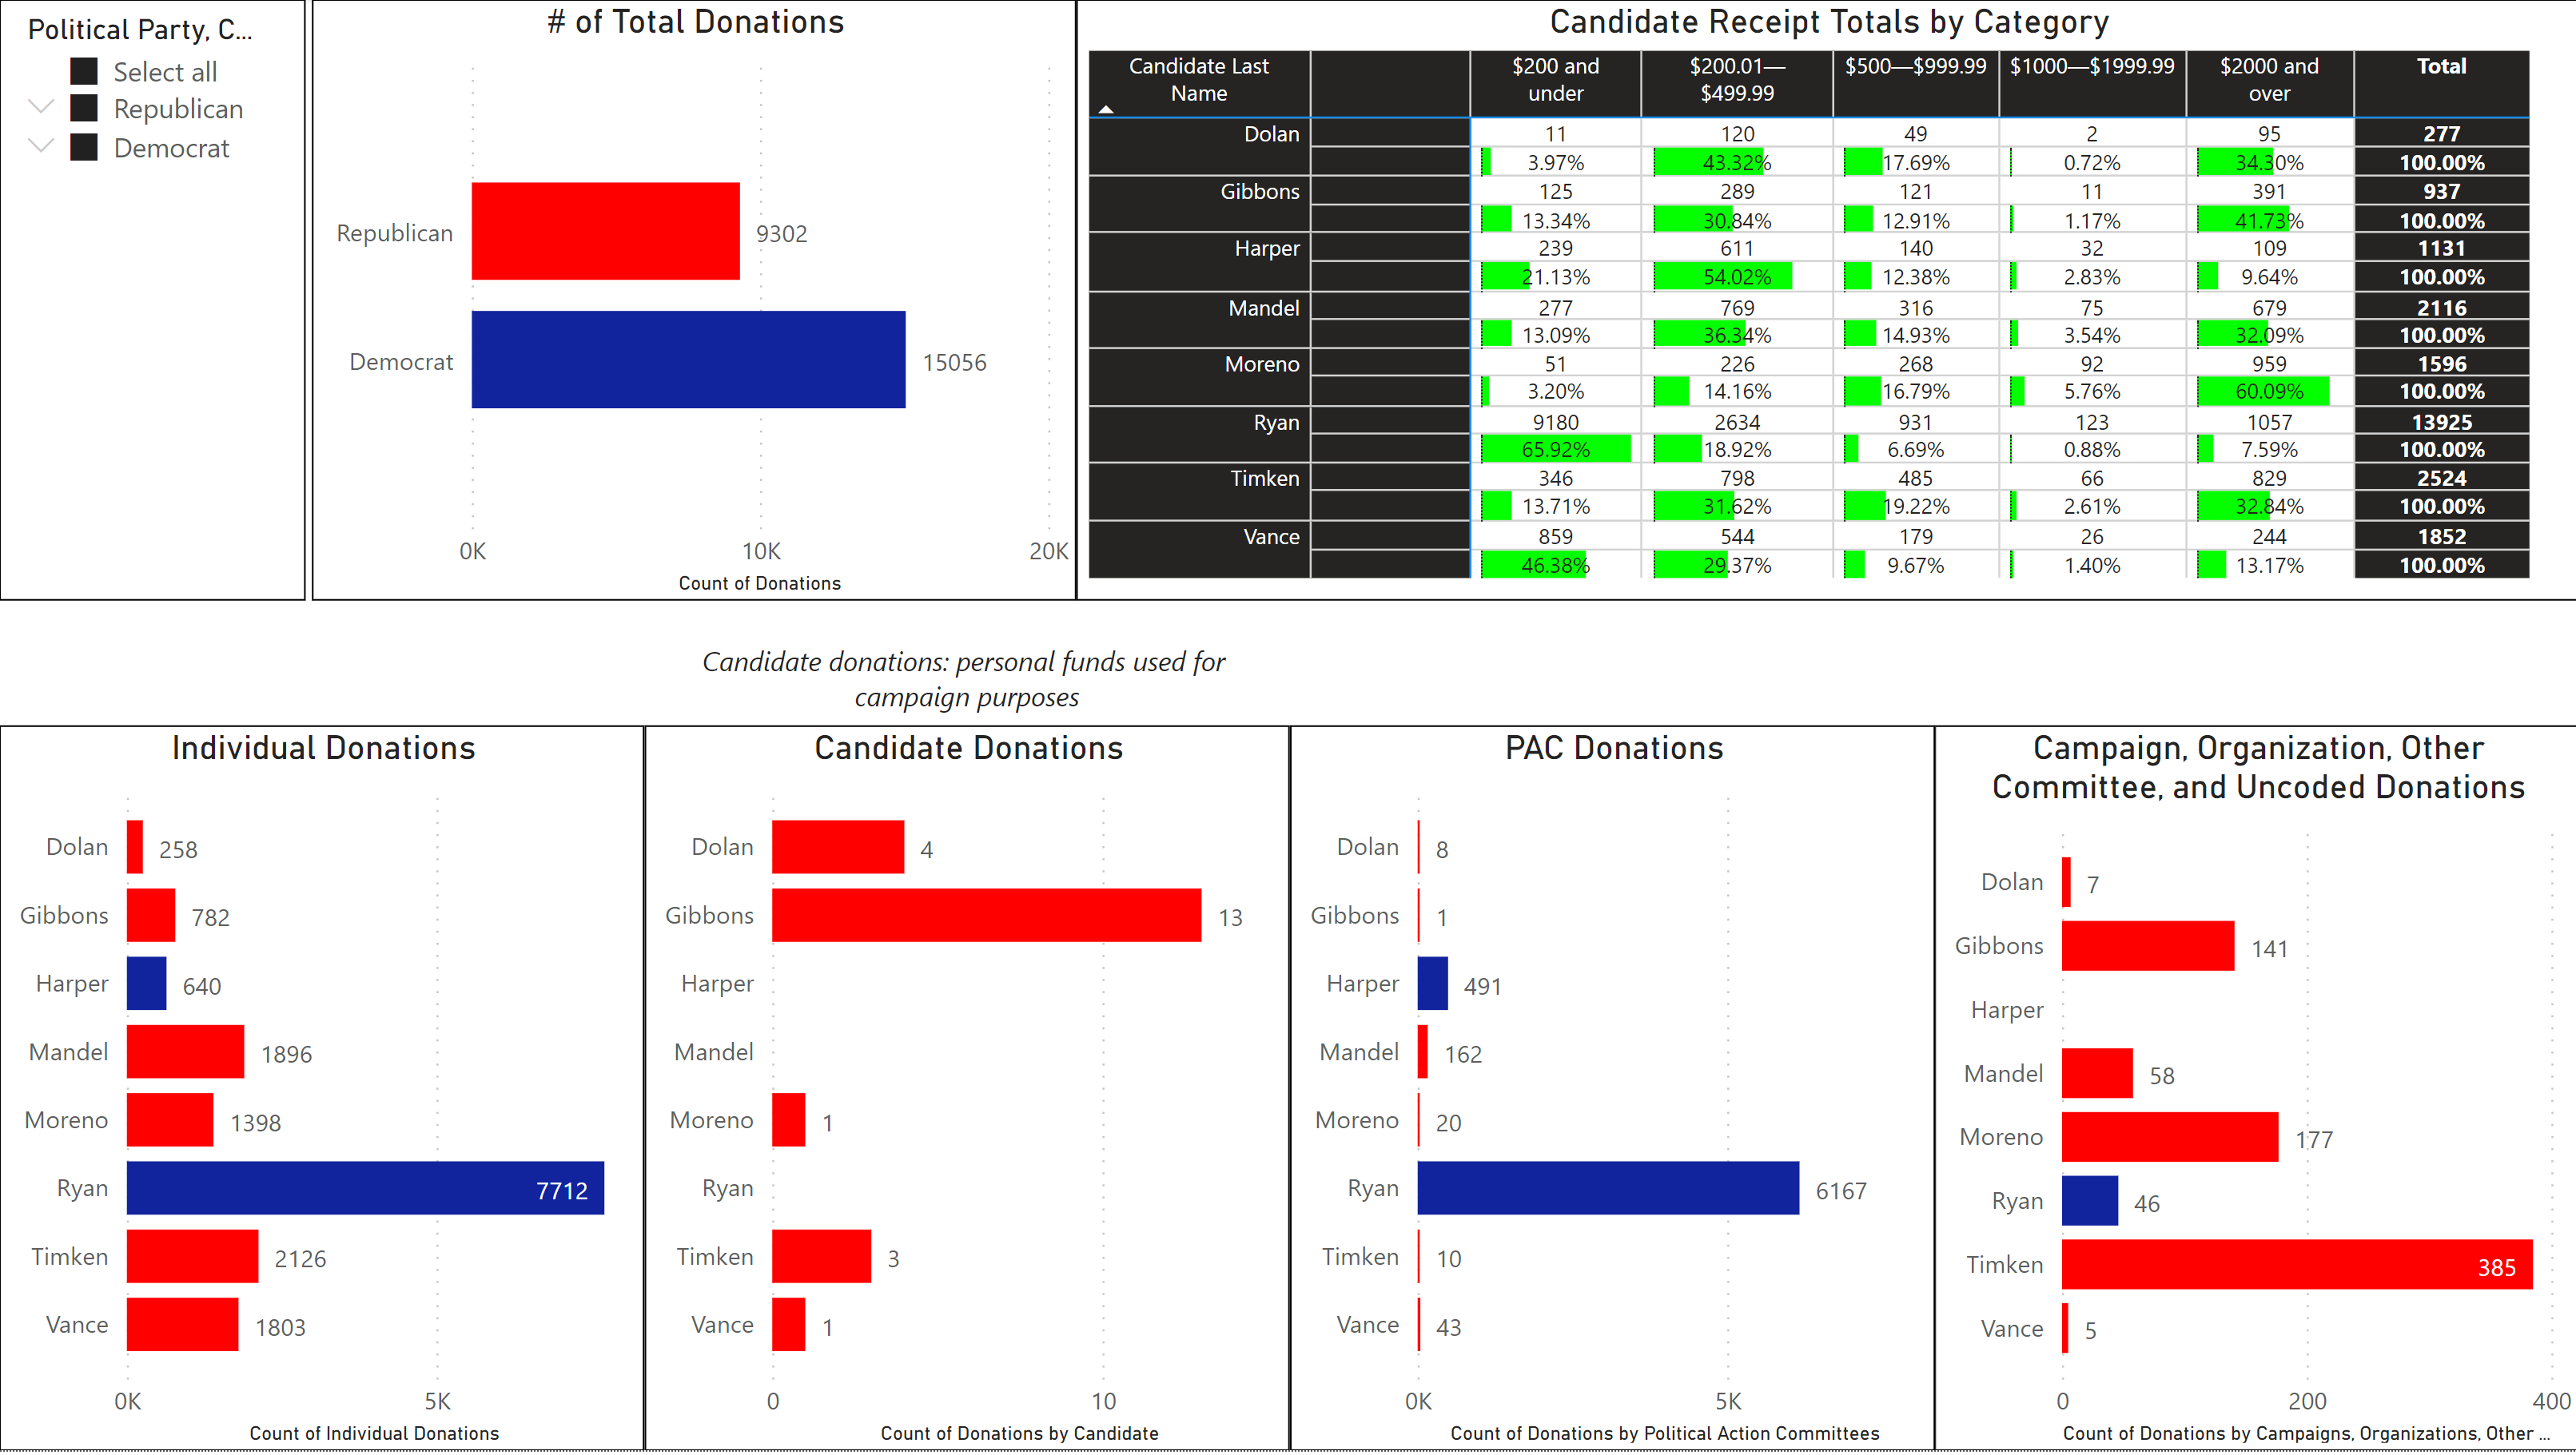

The page's visual inventory and layout, read from the dashboard file:
{"tool":"powerbi","page":{"name":"Receipt Counts","canvas":[1280,720],"ordinal":1},"visuals":[{"type":"pivotTable","title":"Candidate Receipt Totals by Category","fields":{"Columns":["Receipt Category Sort Table.Receipt Category"],"Values":["FEC_Data_Agg.Contribution Receipt Amount","Divide(Sum(FEC_Data_Agg.Contribution Receipt Amount), ScopedEval(Sum(FEC_Data_Agg.Contribution Receipt Amount), [Role.Ro"],"Rows":["Candidate Table.Candidate Last Name"]},"box":[534.2,0,745.8,298],"z":0},{"type":"barChart","title":"# of Total Donations","fields":{"Y":["FEC_Data_Agg.Contribution Receipt Amount"],"Category":["Candidate Table.Political Party Hierarchy.Political Party","Candidate Table.Political Party Hierarchy.Candidate Last Name"]},"box":[155.1,0,379.1,298],"z":1000},{"type":"barChart","title":"Individual Donations","fields":{"Y":["FEC_Data_Agg.Contribution Receipt Amount"],"Category":["Candidate Table.Political Party Hierarchy.Political Party","Candidate Table.Political Party Hierarchy.Candidate Last Name"]},"box":[0,360,320,360],"z":2000},{"type":"slicer","fields":{"Values":["Candidate Table.Political Party","Candidate Table.Candidate Last Name"]},"box":[0,0,152,298.2],"z":3000},{"type":"barChart","title":"Campaign, Organization, Other Committee, and Uncoded Donations","fields":{"Y":["FEC_Data_Agg.Contribution Receipt Amount"],"Category":["Candidate Table.Political Party Hierarchy.Political Party","Candidate Table.Political Party Hierarchy.Candidate Last Name"]},"box":[960,360,320,360],"z":4000},{"type":"barChart","title":"PAC Donations","fields":{"Y":["FEC_Data_Agg.Contribution Receipt Amount"],"Category":["Candidate Table.Political Party Hierarchy.Political Party","Candidate Table.Political Party Hierarchy.Candidate Last Name"]},"box":[640,360,320,360],"z":5000},{"type":"barChart","title":"Candidate Donations","fields":{"Y":["FEC_Data_Agg.Contribution Receipt Amount"],"Category":["Candidate Table.Political Party Hierarchy.Political Party","Candidate Table.Political Party Hierarchy.Candidate Last Name"]},"box":[320,360,320,360],"z":6000},{"type":"textbox","box":[320,314.3,320,45.6],"z":7000}]}

Visuals, with their boxes in screenshot pixels (x1, y1, x2, y2), scaled from the page's 1280x720 canvas onto the 2576x1455 screenshot:
"Candidate Receipt Totals by Category" pivotTable: box=[1075, 0, 2575, 602]
"# of Total Donations" barChart: box=[313, 0, 1075, 602]
"Individual Donations" barChart: box=[0, 727, 644, 1454]
slicer - Candidate Table.Political Party x Candidate Table.Candidate Last Name: box=[0, 0, 306, 602]
"Campaign, Organization, Other Committee, and Uncoded Donations" barChart: box=[1932, 727, 2575, 1454]
"PAC Donations" barChart: box=[1288, 727, 1932, 1454]
"Candidate Donations" barChart: box=[644, 727, 1288, 1454]
textbox: box=[644, 635, 1288, 727]
